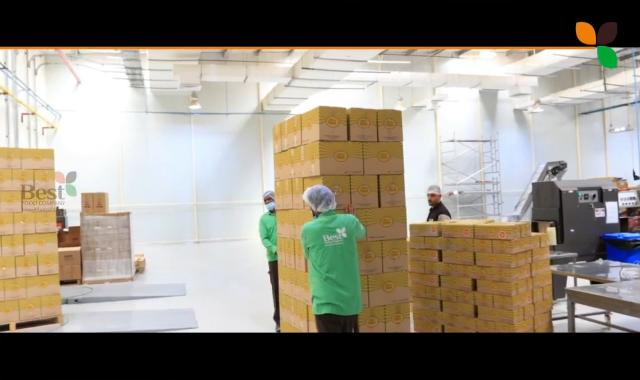hairnet: (303, 183, 336, 214), (426, 181, 443, 196), (262, 187, 275, 199)
